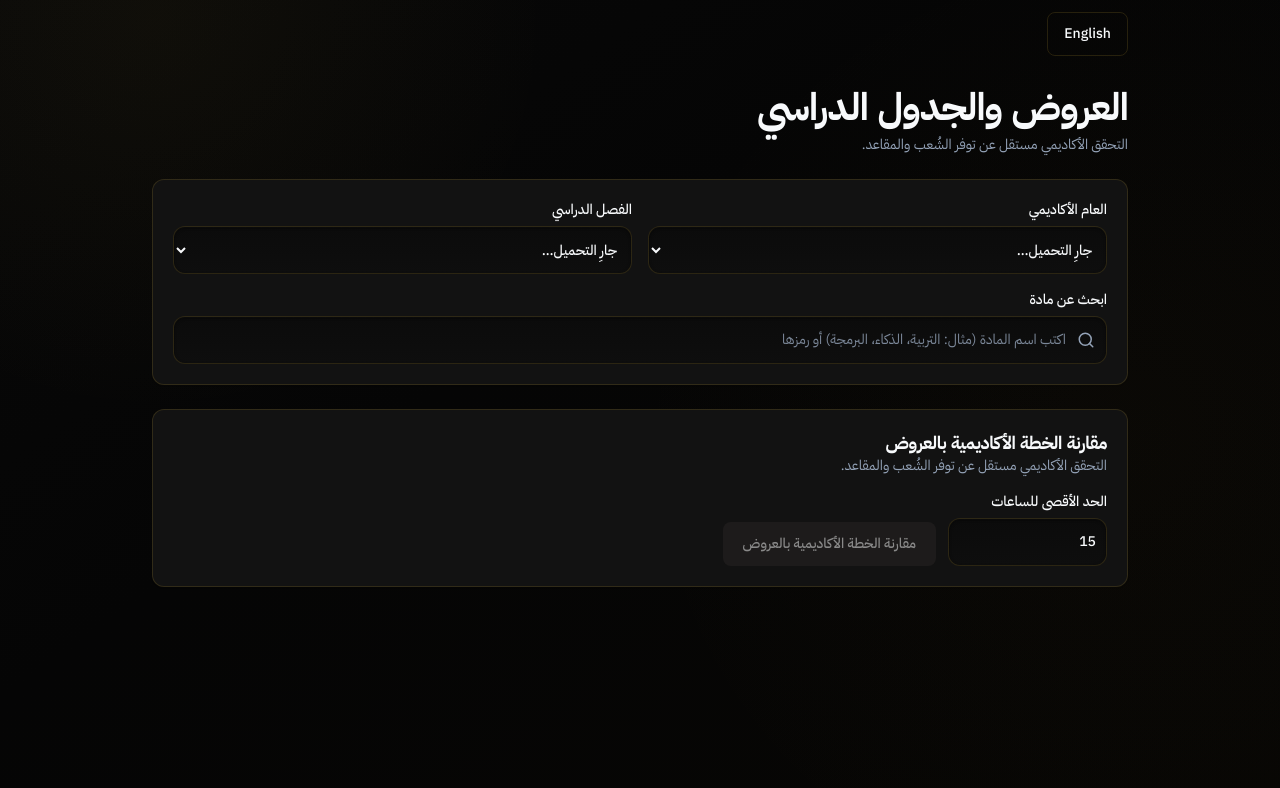
Scenario: renders polished Arabic section cards and suppresses raw technical metadata
The width and height of the screenshot is (1280, 788).
Type "برمجة" into the dropdown labelled "ابحث عن مادة" at (640, 340), box [173,316,1107,364]
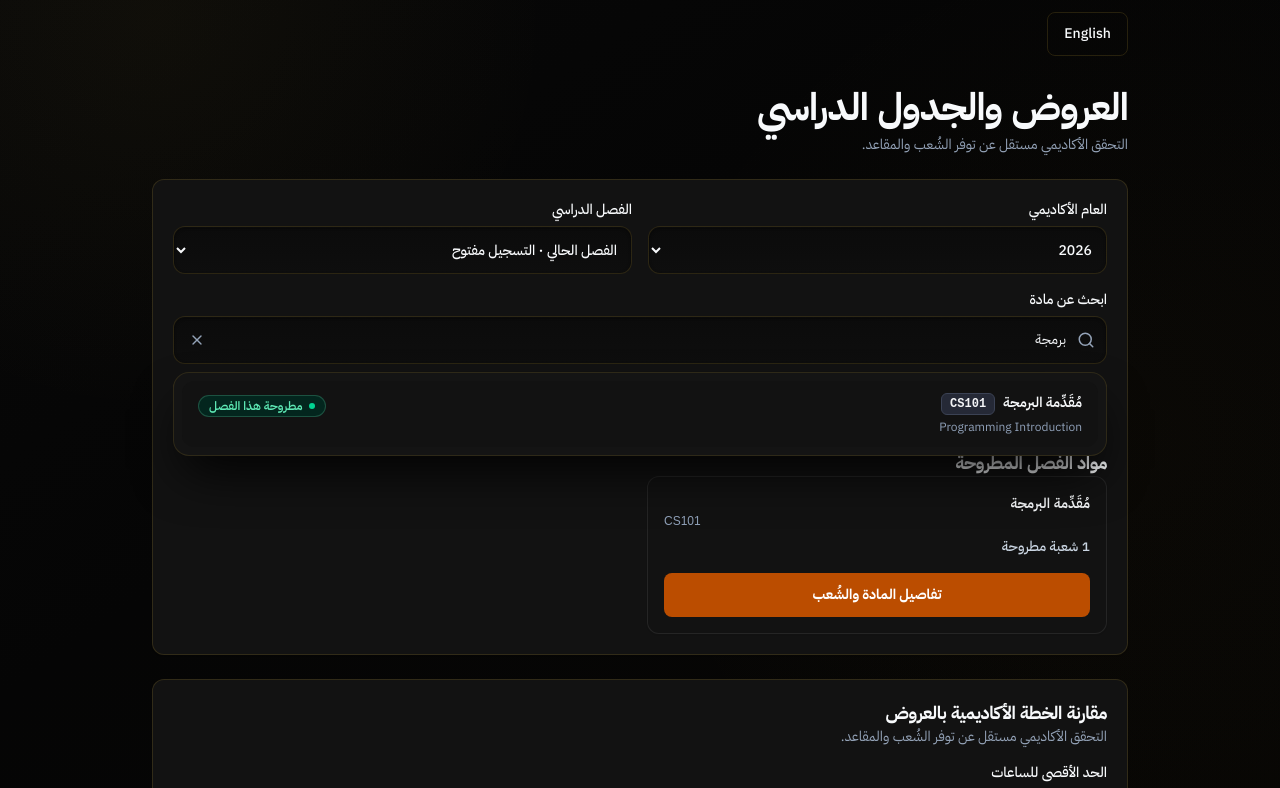
Click the option "مُقَدِّمة البرمجة" at (1043, 403), box [182,381,1098,447]
(page scrolled)
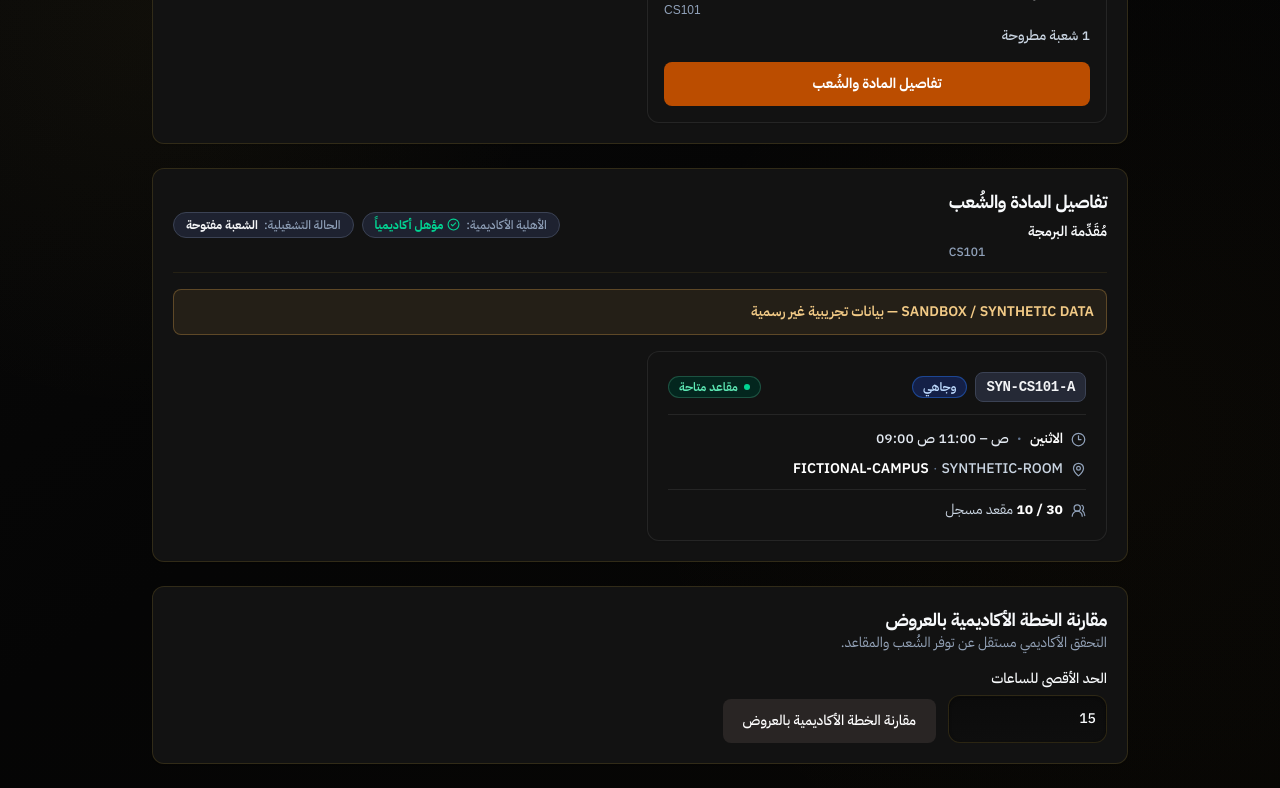
Expected: the text "مؤهل أكاديمياً" is shown, [375,217,460,233]
Expected: the text "الشعبة مفتوحة" is shown, [186,217,258,233]
Expected: the text "وجاهي" is shown, [912,376,967,398]
